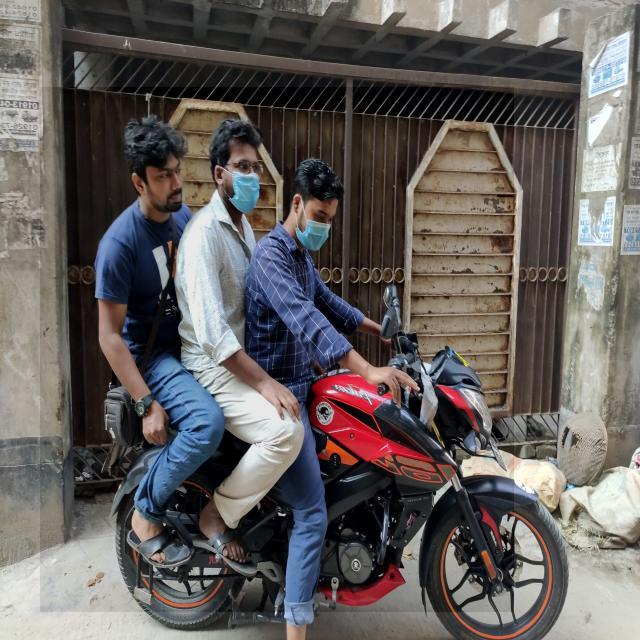Overloading: (41, 87, 514, 612)
